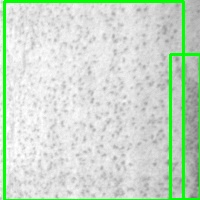pitted_surface: (4, 1, 183, 200), (170, 54, 200, 199)
